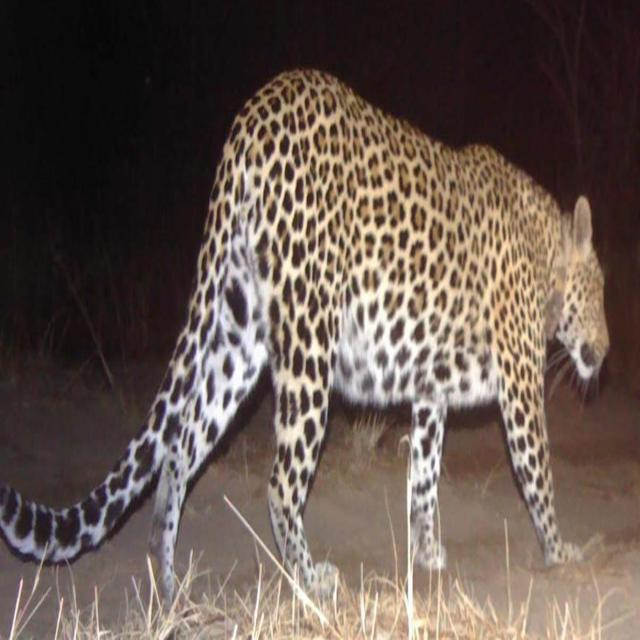Leopard: (14, 89, 623, 634)
